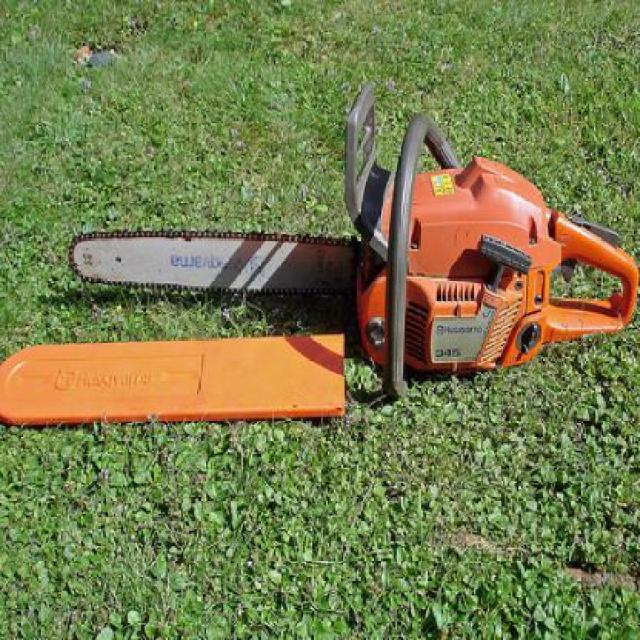Chainsaw: (67, 82, 638, 398)
